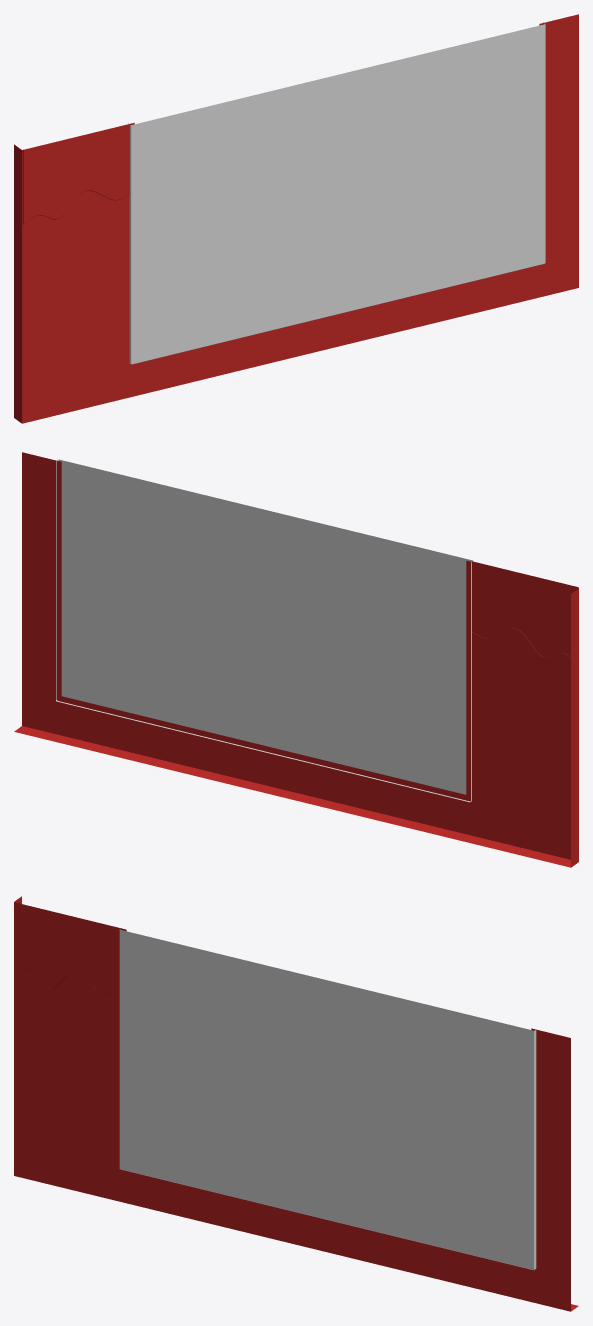
File: board.fbx
The picture shows the model from 3 angles, top to bottom: view 1: azimuth 30°, elevation 25°; view 2: azimuth 150°, elevation 25°; view 3: azimuth 330°, elevation 25°; orthographic projection.
Visible parts, largest first — view 1: board; view 2: board; view 3: board.
Part boxes in pixels (<box>): board: <box>14,14,578,423</box>; board: <box>14,452,578,867</box>; board: <box>14,896,578,1311</box>.
Bounding box in the file's own units: 1057 × 496 × 32.28.
